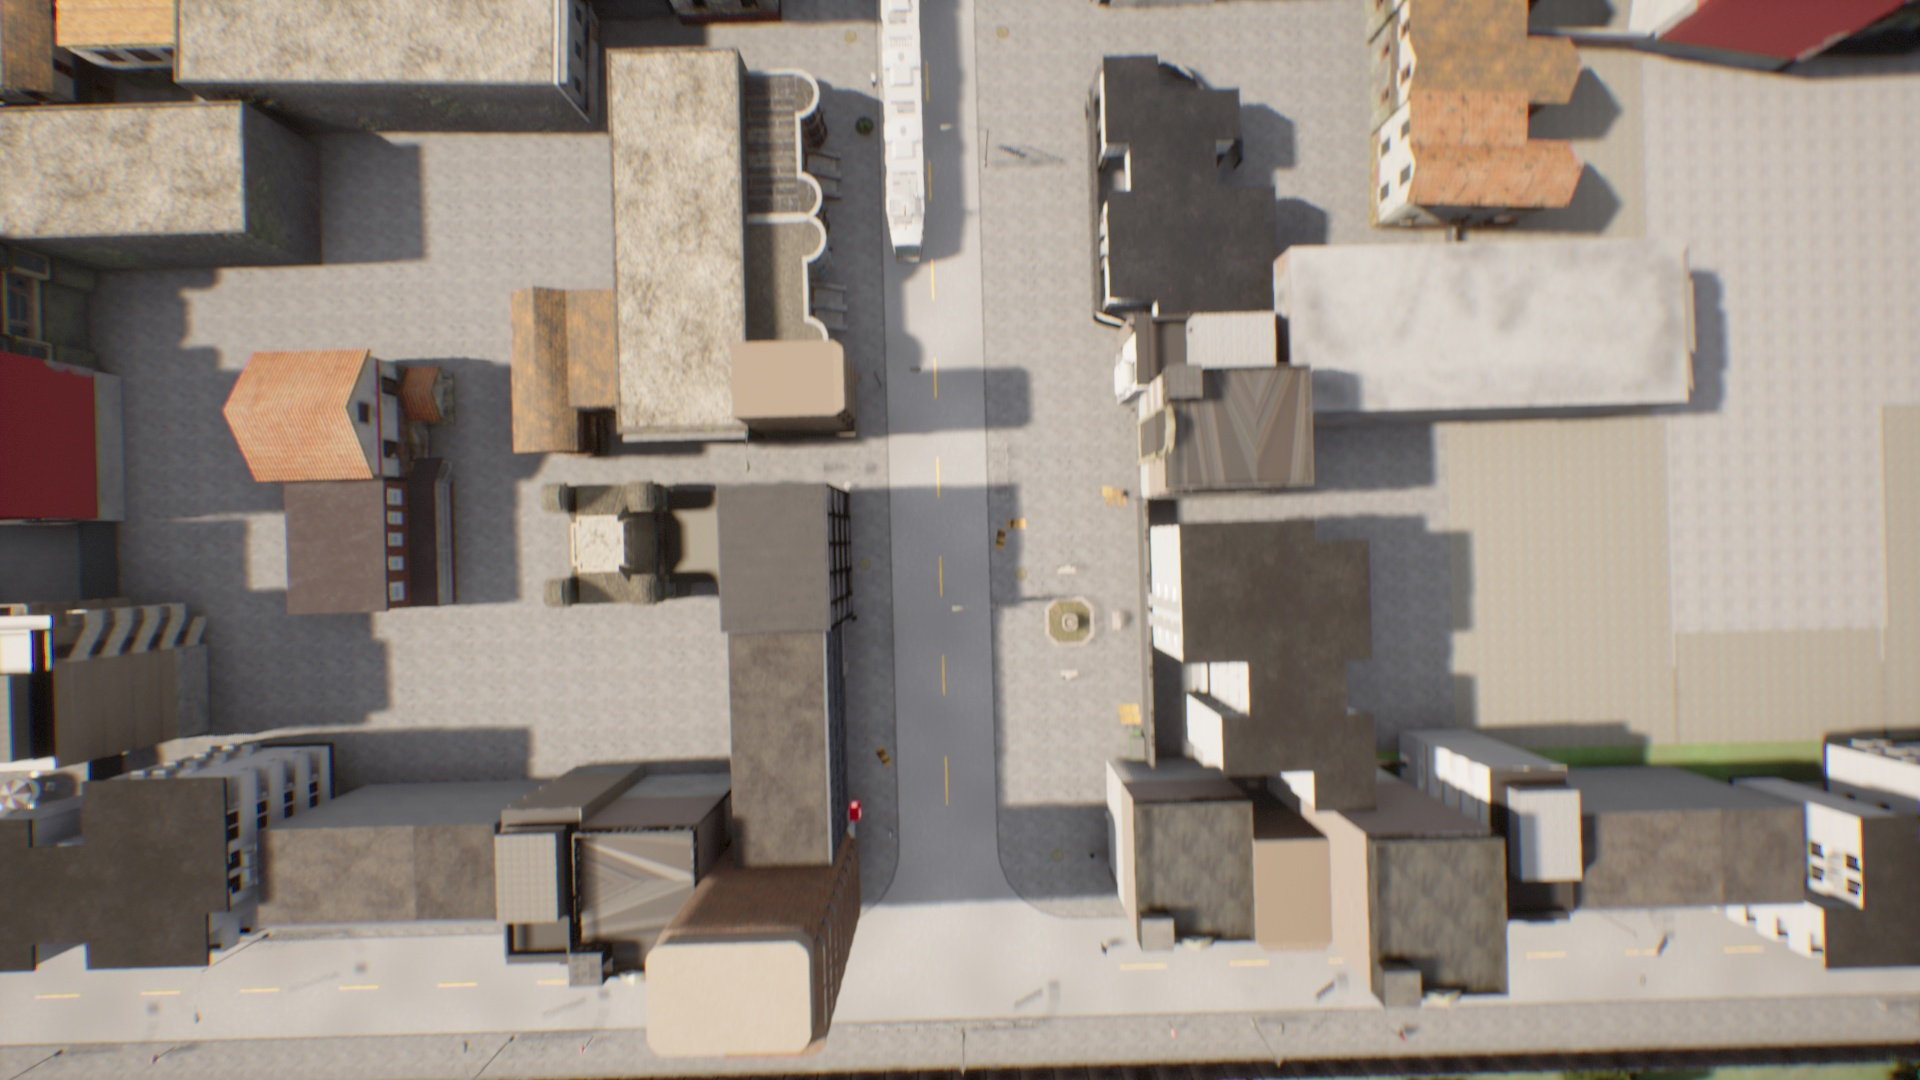Bus: (877, 0, 926, 269)
